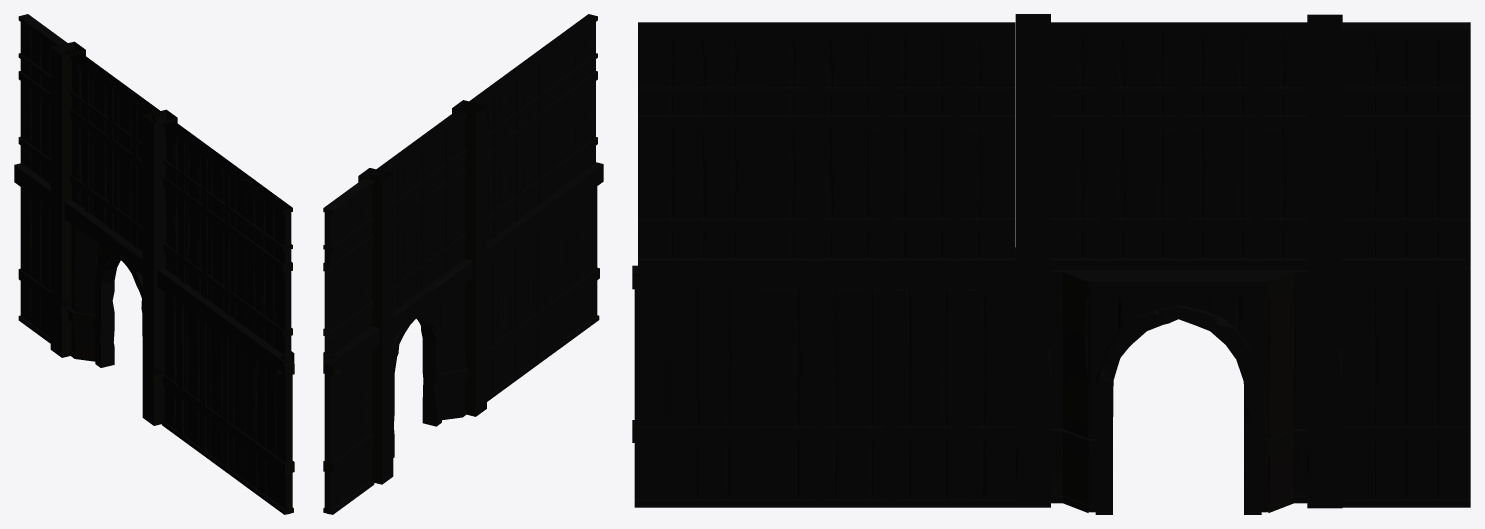
File: doorwall.fbx
3 renders of one model, left to right at view 1: azimuth 30°, elevation 25°; view 2: azimuth 150°, elevation 25°; view 3: azimuth 270°, elevation 25°, orthographic. The views are drawn at different scales.
Visible parts, largest first — view 1: SFT_Building_Attachable_Interior_Wall; view 2: SFT_Building_Attachable_Interior_Wall; view 3: SFT_Building_Attachable_Interior_Wall.
Part boxes in pixels (x1,y1,x2,y2): SFT_Building_Attachable_Interior_Wall: [14, 14, 294, 514]; SFT_Building_Attachable_Interior_Wall: [323, 14, 603, 514]; SFT_Building_Attachable_Interior_Wall: [632, 14, 1470, 514].
Size of the model in its own units: 28.77 by 232 by 367.
